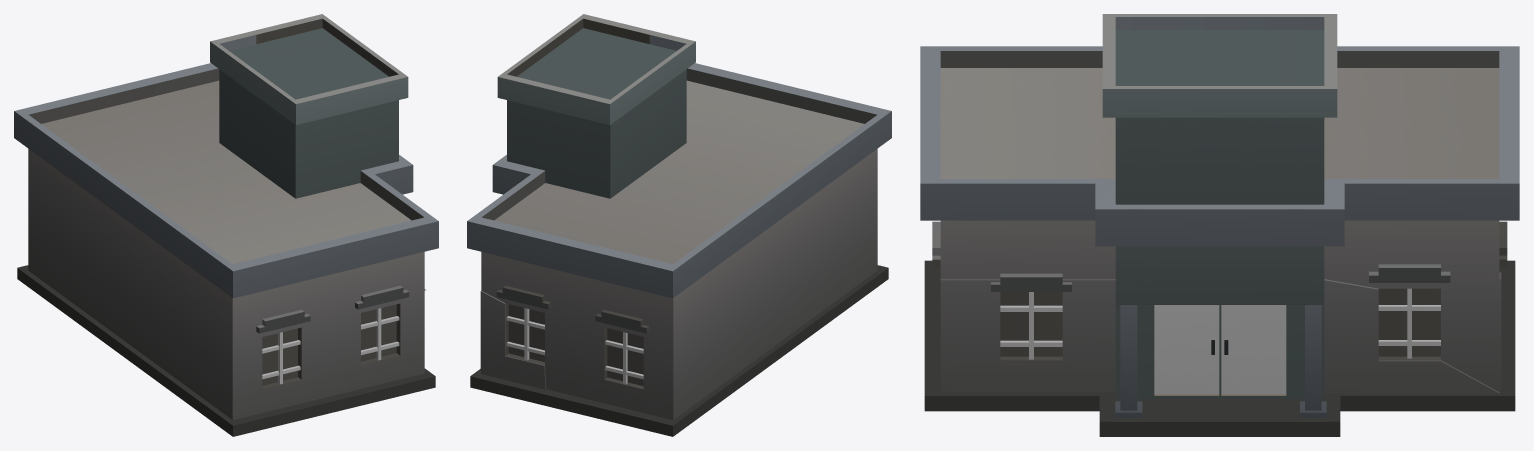
The model's file is home1.fbx.
3 renders of one model, left to right at view 1: azimuth 30°, elevation 25°; view 2: azimuth 150°, elevation 25°; view 3: azimuth 270°, elevation 25°, orthographic. The views are drawn at different scales.
Visible parts, largest first — view 1: Cube.064; view 2: Cube.064; view 3: Cube.064.
Part boxes in pixels (bbox=[...]): Cube.064: bbox=[14, 14, 438, 436]; Cube.064: bbox=[467, 14, 891, 436]; Cube.064: bbox=[920, 14, 1519, 436].
Bounding box in the file's own units: 7.79 × 7.74 × 12.1.
